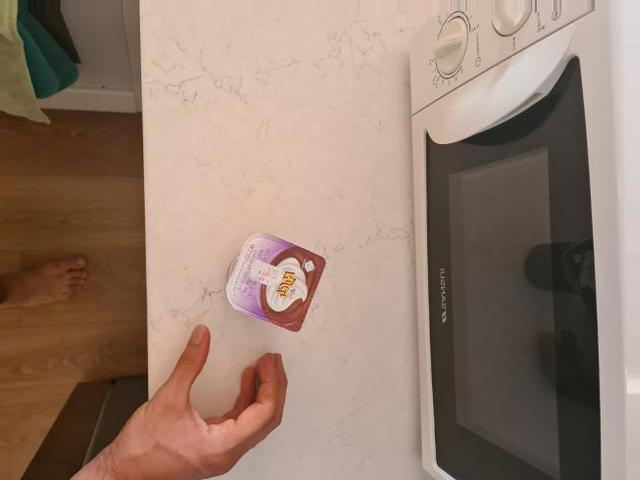milky: (223, 233, 324, 331)
